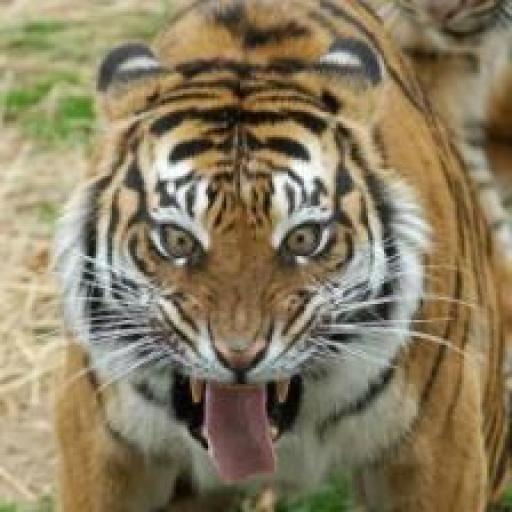Tiger: (50, 0, 512, 512)
